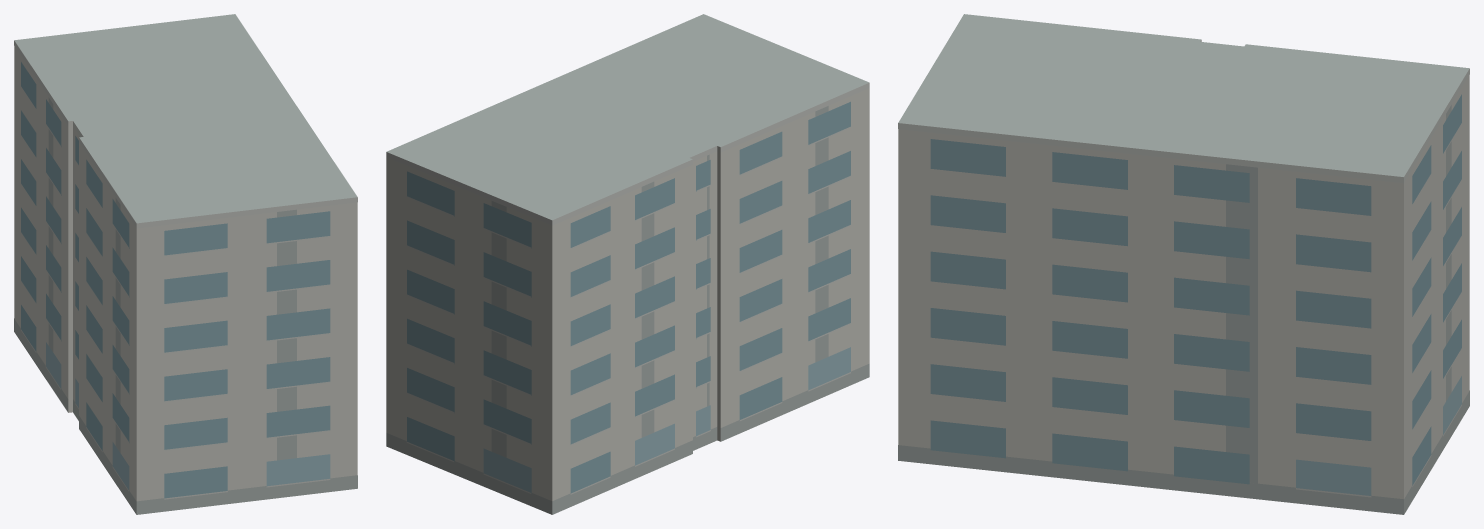
The model's file is survey-upis-32879254.glb.
3 renders of one model, left to right at view 1: azimuth 30°, elevation 25°; view 2: azimuth 150°, elevation 25°; view 3: azimuth 270°, elevation 25°, orthographic. The views are drawn at different scales.
Parts seen in each view (by area): view 1: survey-upis-32879254.tmp; view 2: survey-upis-32879254.tmp; view 3: survey-upis-32879254.tmp.
Part boxes in pixels (box(x1,y1,x2,y2)): survey-upis-32879254.tmp: box(14, 14, 357, 514); survey-upis-32879254.tmp: box(386, 14, 869, 514); survey-upis-32879254.tmp: box(898, 14, 1469, 514).
Bounding box in the file's own units: 14 × 13.5 × 20.72.
